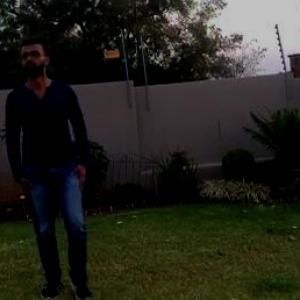follow: (9, 34, 101, 290)
